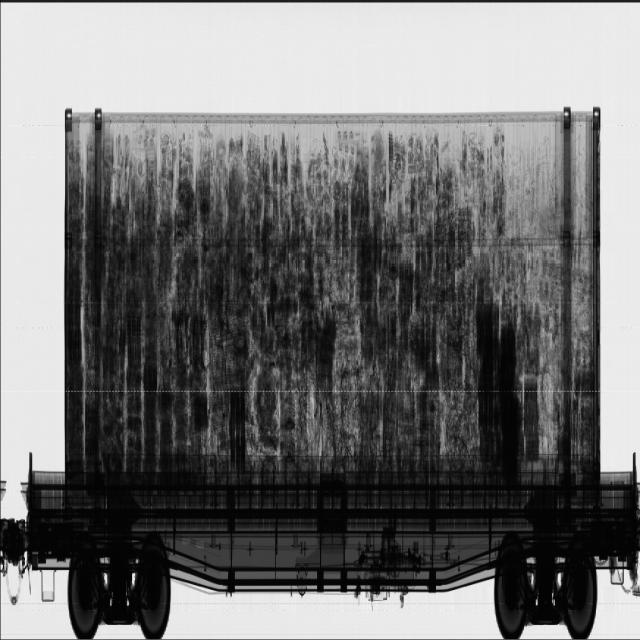tools: (473, 298, 539, 462)
toys: (457, 127, 591, 458)
